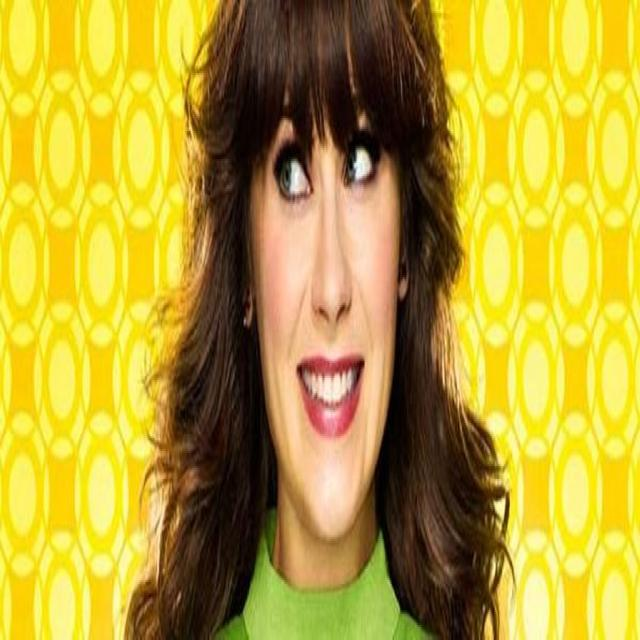Face: (262, 110, 394, 540)
